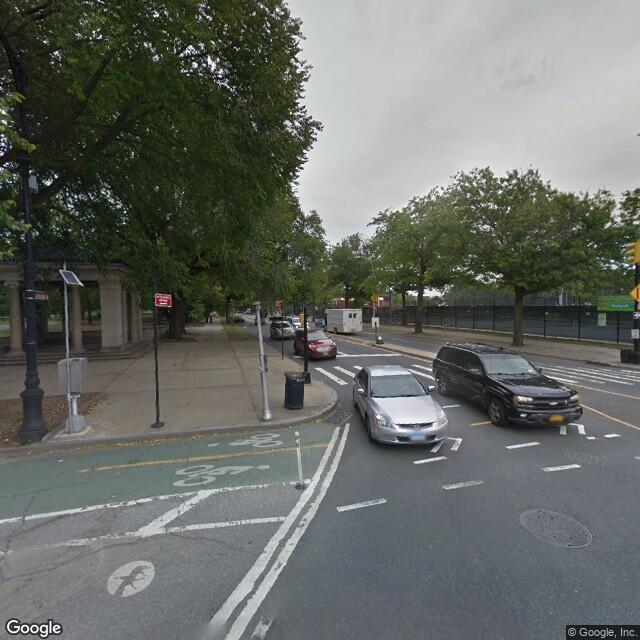litter: (58, 459, 64, 462)
